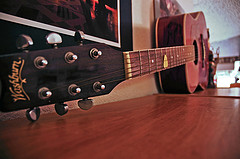guitar: (1, 11, 212, 117)
